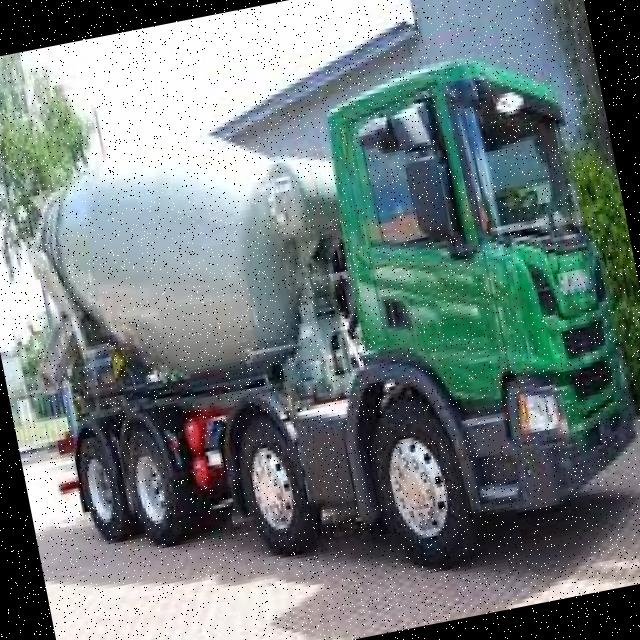Mixer Truck: (0, 33, 640, 639)
